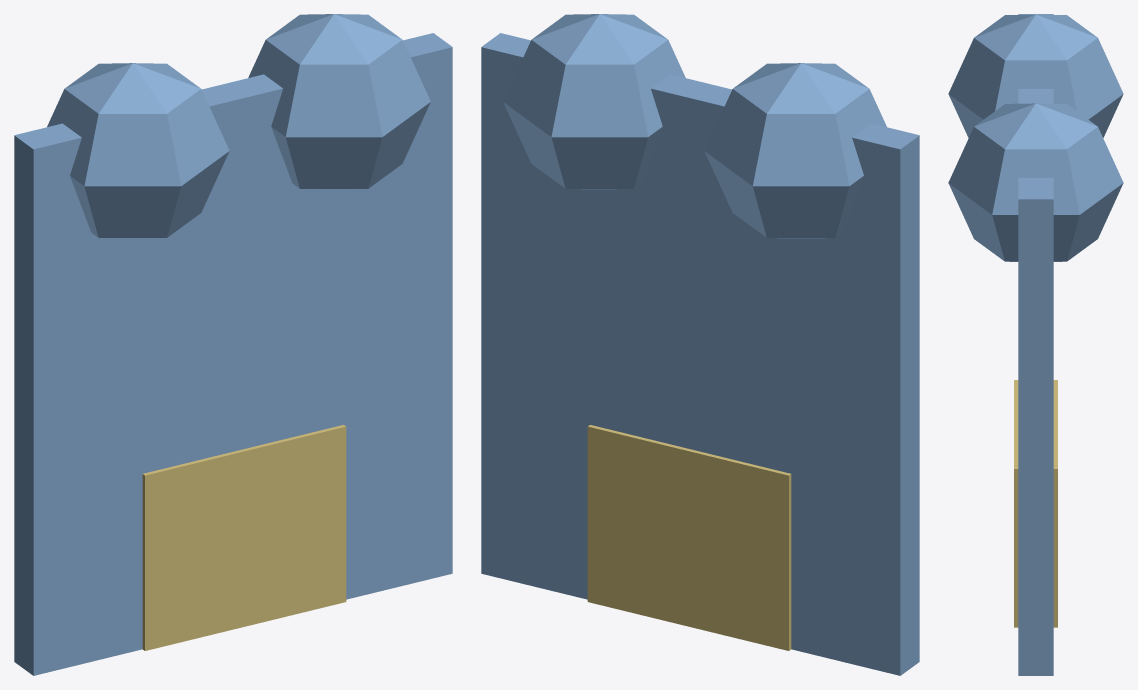
Rendered from kid_babador.glb.
The picture shows the model from 3 angles, left to right: view 1: azimuth 30°, elevation 25°; view 2: azimuth 150°, elevation 25°; view 3: azimuth 270°, elevation 25°; orthographic projection. The views are drawn at different scales.
Visible parts, largest first — view 1: KID_BABADOR_v01; view 2: KID_BABADOR_v01; view 3: KID_BABADOR_v01.
Part boxes in pixels (bbox=[...]): KID_BABADOR_v01: bbox=[14, 14, 452, 675]; KID_BABADOR_v01: bbox=[481, 14, 919, 675]; KID_BABADOR_v01: bbox=[948, 14, 1123, 675].
Bounding box in the file's own units: 0.25 × 0.33 × 0.1.
